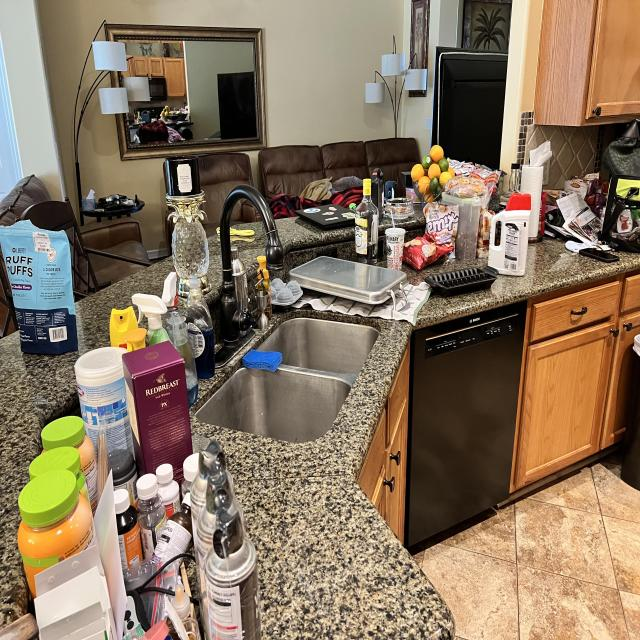Appliance_Dishwasher: (403, 301, 527, 554)
Appliance_Sink: (196, 318, 380, 444), (209, 184, 284, 365)
Cabinet_Flat: (359, 350, 409, 501), (531, 273, 640, 341)
Cabinet_Shaker: (514, 313, 640, 490), (533, 0, 640, 132), (378, 414, 407, 544)
Countertop_Granite: (213, 239, 640, 640), (0, 261, 173, 621), (274, 218, 354, 250), (402, 260, 479, 286), (231, 222, 266, 265), (205, 235, 221, 275)
